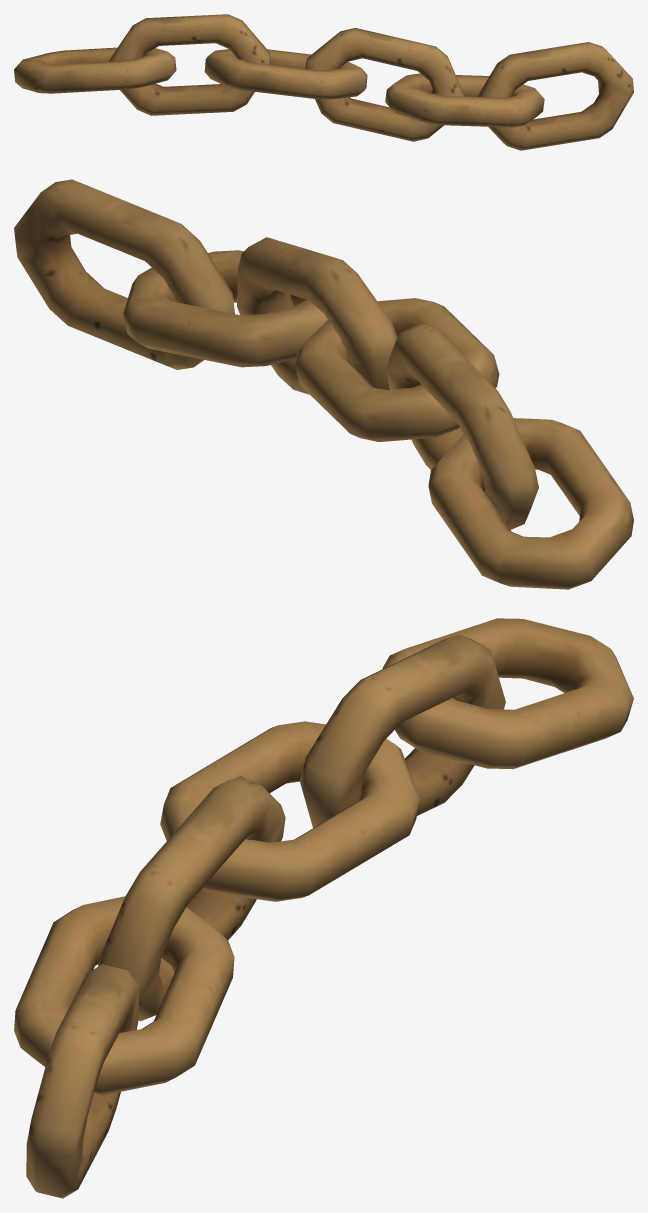
3 views of the same model, one above another, from view 1: azimuth 30°, elevation 25°; view 2: azimuth 150°, elevation 25°; view 3: azimuth 270°, elevation 25° (orthographic). The views are drawn at different scales.
Parts seen in each view (by area): view 1: SM_Dragonkin_Chain_Cage_04_LOD0; view 2: SM_Dragonkin_Chain_Cage_04_LOD0; view 3: SM_Dragonkin_Chain_Cage_04_LOD0.
Boxes of the visible parts, x1,y1,x2,y2 form: SM_Dragonkin_Chain_Cage_04_LOD0: (14,14,633,150); SM_Dragonkin_Chain_Cage_04_LOD0: (14,179,633,589); SM_Dragonkin_Chain_Cage_04_LOD0: (14,618,633,1198).
Size of the model in its own units: 1.69 by 0.443 by 0.9824.
1 material, 1 textured.
